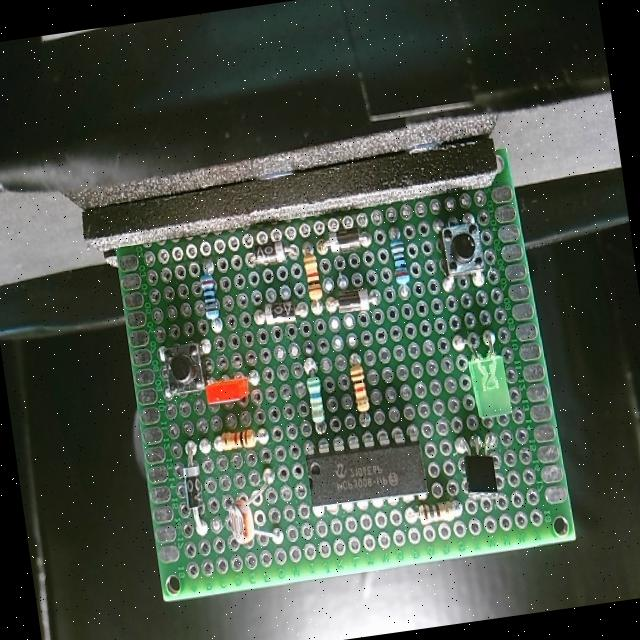IC: (303, 434, 432, 511)
cds: (222, 491, 262, 547)
diode: (178, 458, 210, 516), (329, 285, 374, 318), (259, 294, 299, 328), (326, 222, 368, 254), (249, 240, 290, 268)
led: (464, 347, 516, 422), (202, 372, 252, 410)
resistor: (298, 247, 328, 301), (386, 233, 414, 290), (415, 497, 460, 532), (216, 425, 258, 455), (304, 376, 328, 428), (348, 364, 372, 415), (200, 272, 223, 320)
switch: (436, 218, 490, 282), (158, 339, 207, 396)
transistor: (457, 448, 504, 500)
